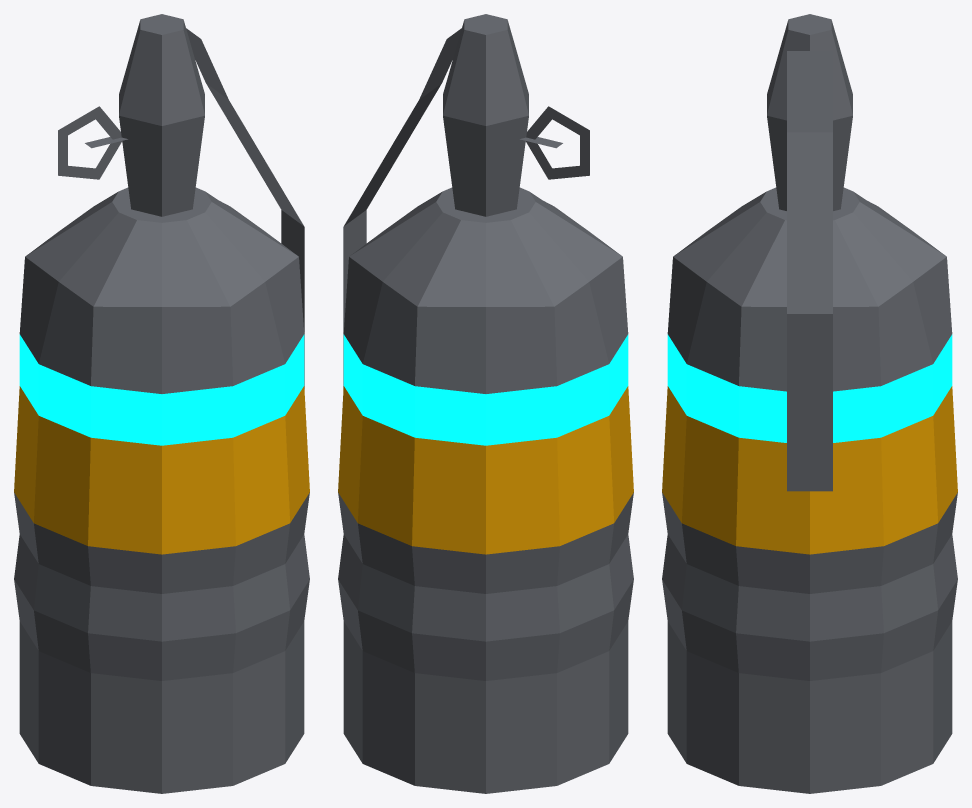
File: GAD_MOD_02_CANISTER.glb
3 renders of one model, left to right at view 1: azimuth 30°, elevation 25°; view 2: azimuth 150°, elevation 25°; view 3: azimuth 270°, elevation 25°, orthographic.
Parts seen in each view (by area): view 1: SM_GAD_MOD_02_CANISTER; view 2: SM_GAD_MOD_02_CANISTER; view 3: SM_GAD_MOD_02_CANISTER.
Boxes of the visible parts, <box> form: SM_GAD_MOD_02_CANISTER: <box>14,14,309,793</box>; SM_GAD_MOD_02_CANISTER: <box>338,14,633,793</box>; SM_GAD_MOD_02_CANISTER: <box>662,14,957,793</box>.
Size of the model in its own units: 0.0841 by 0.22 by 0.0832.
